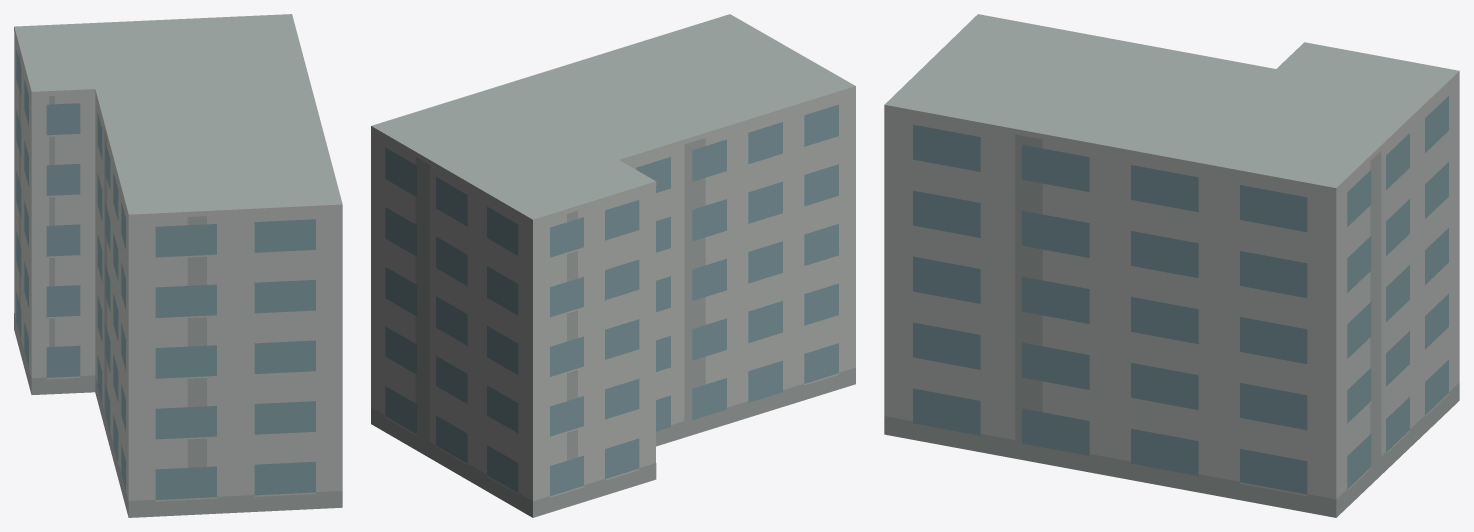
The model's file is survey-upis-32530466.glb.
3 renders of one model, left to right at view 1: azimuth 30°, elevation 25°; view 2: azimuth 150°, elevation 25°; view 3: azimuth 270°, elevation 25°, orthographic. The views are drawn at different scales.
Visible parts, largest first — view 1: survey-upis-32530466.tmp; view 2: survey-upis-32530466.tmp; view 3: survey-upis-32530466.tmp.
Part boxes in pixels (<box>): survey-upis-32530466.tmp: <box>14,14,342,517</box>; survey-upis-32530466.tmp: <box>371,14,855,517</box>; survey-upis-32530466.tmp: <box>884,14,1459,517</box>.
Bounding box in the file's own units: 16.43 × 14.5 × 22.93.
